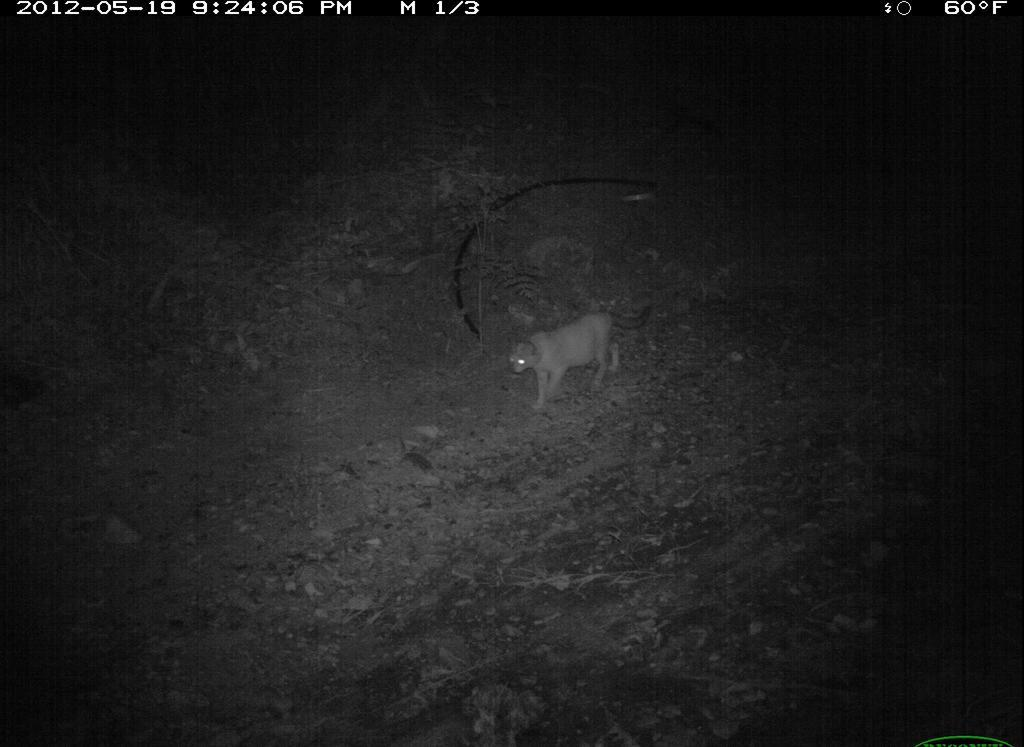cat: (506, 304, 658, 413)
